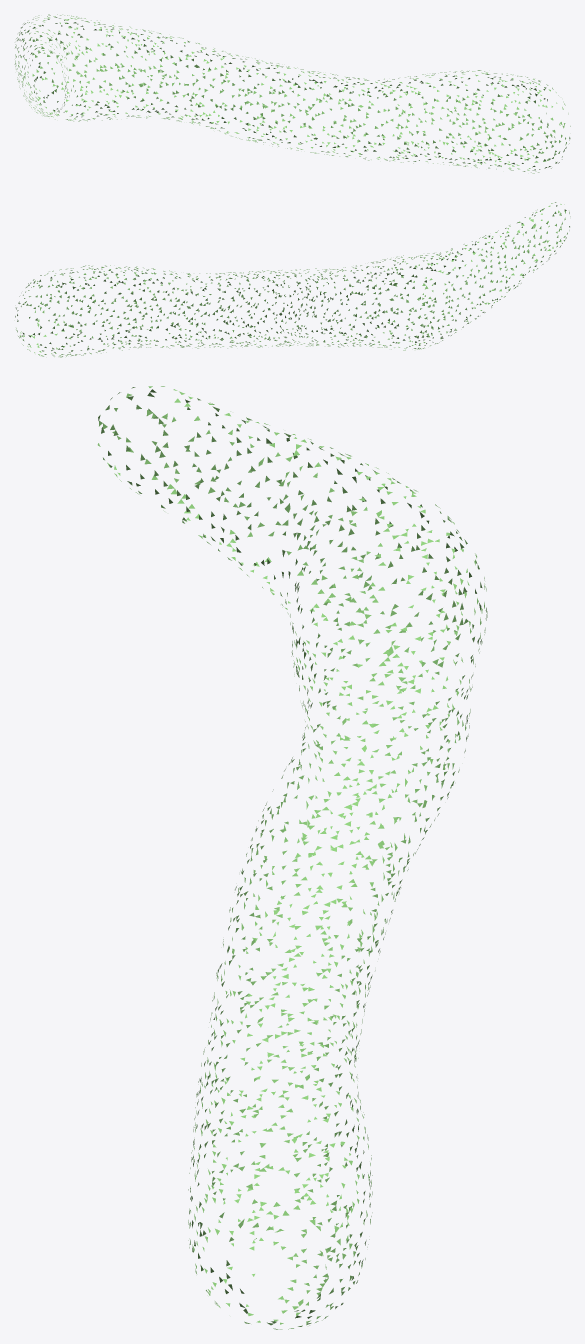
Rendered from morph_015.glb.
The picture shows the model from 3 angles, top to bottom: view 1: azimuth 30°, elevation 25°; view 2: azimuth 150°, elevation 25°; view 3: azimuth 270°, elevation 25°; orthographic projection. The views are drawn at different scales.
Bounding box in the file's own units: 125 × 56.83 × 41.79.
